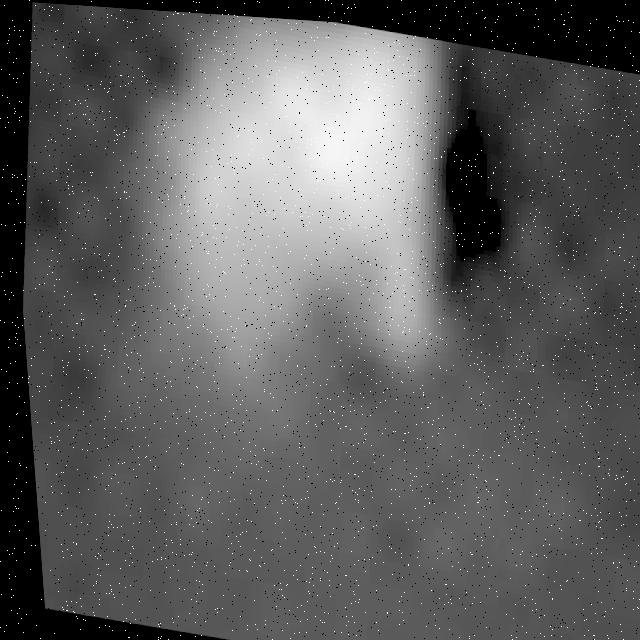person: (122, 7, 497, 506)
